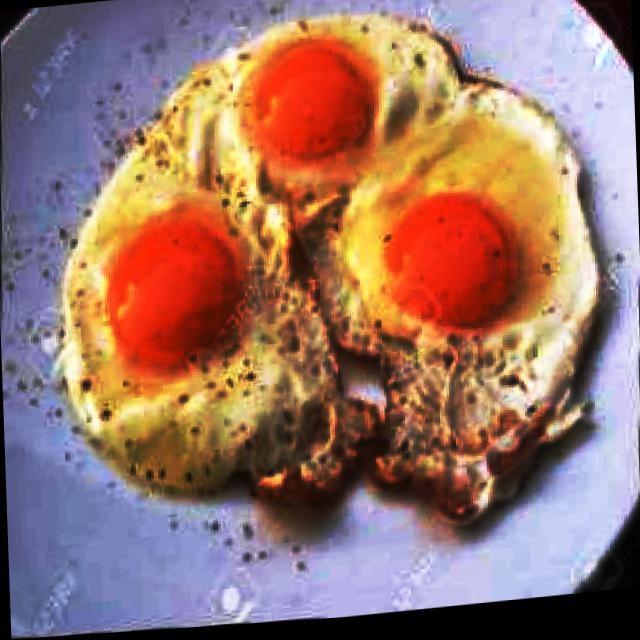fried_eggs: (55, 114, 387, 535), (352, 62, 606, 536), (161, 0, 466, 224)
